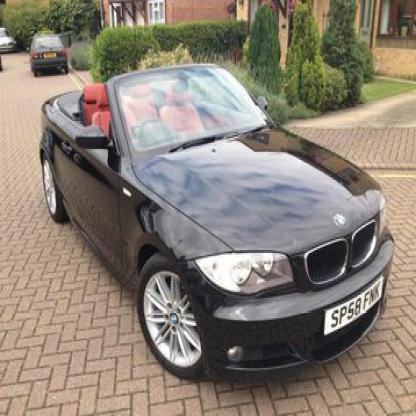Vehicle: (40, 60, 398, 382)
